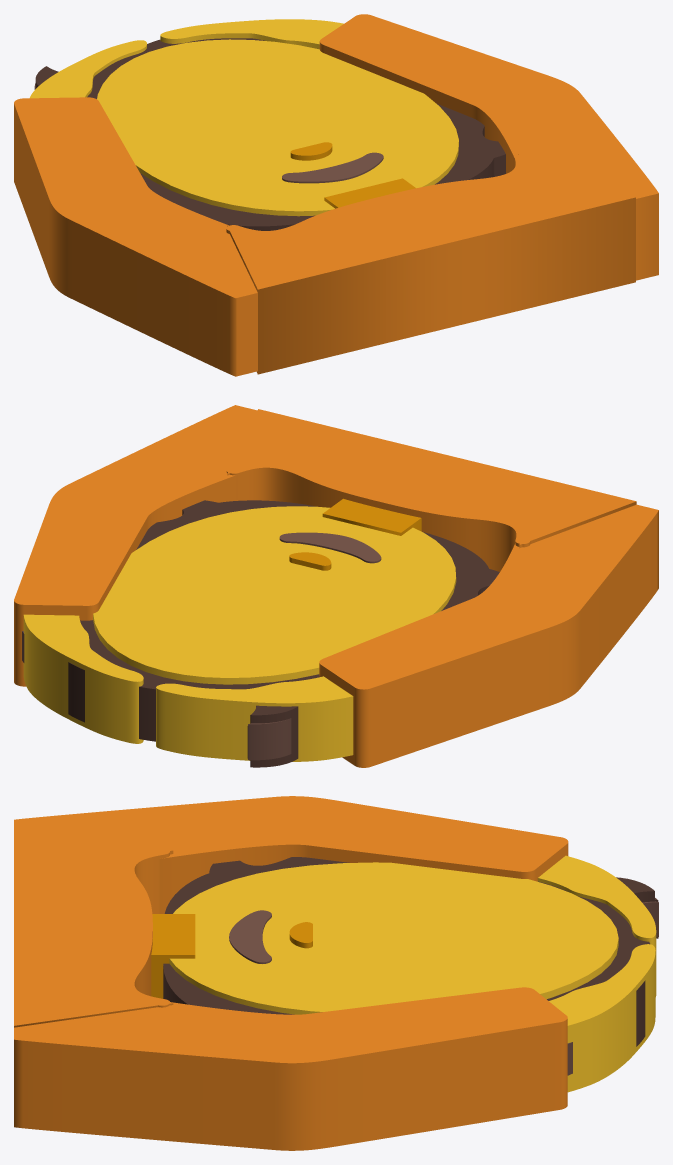
File: emoji_u1f646.glb
The picture shows the model from 3 angles, top to bottom: view 1: azimuth 30°, elevation 25°; view 2: azimuth 150°, elevation 25°; view 3: azimuth 270°, elevation 25°; orthographic projection. The views are drawn at different scales.
Parts seen in each view (by area): view 1: emoji_u1f646; view 2: emoji_u1f646; view 3: emoji_u1f646.
Boxes of the visible parts, x1,y1,x2,y2 form: emoji_u1f646: (14, 14, 658, 376); emoji_u1f646: (14, 405, 658, 767); emoji_u1f646: (14, 796, 658, 1150).
Bounding box in the file's own units: 0.0329 × 0.0052 × 0.0333.
